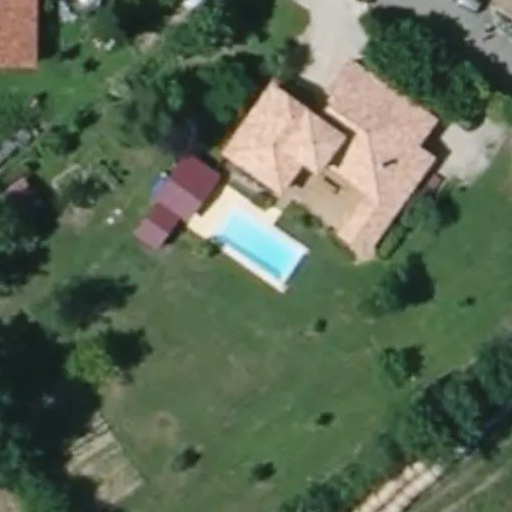pool: (201, 234, 310, 249)
